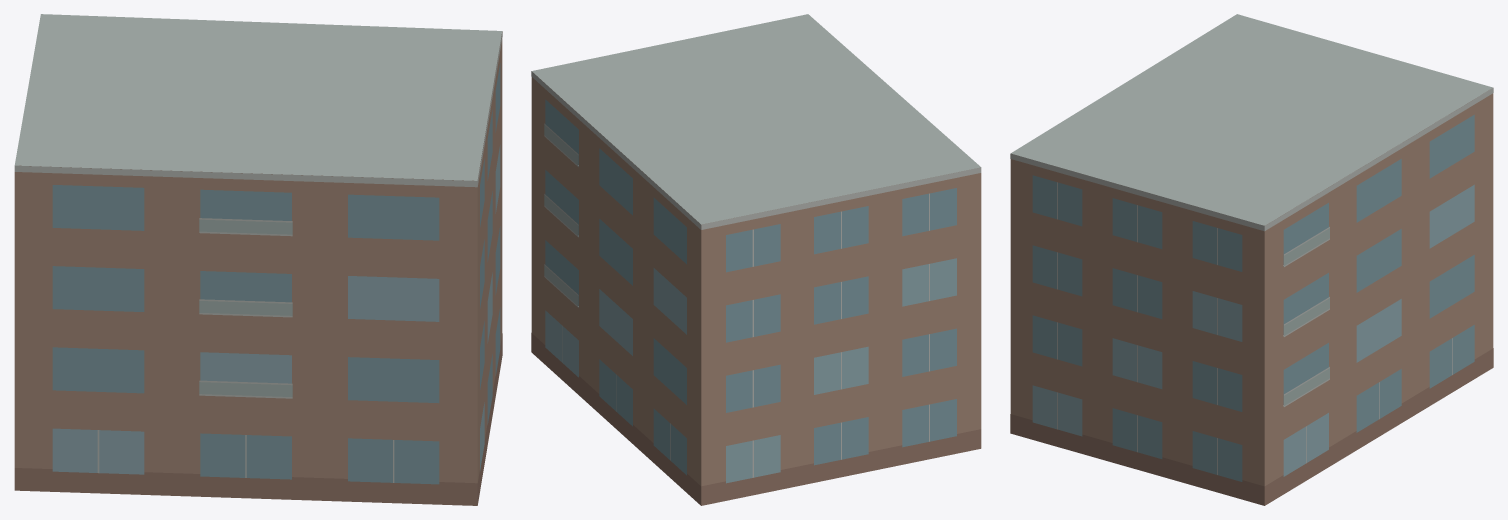
Rendered from survey-upis-32660549.glb.
3 renders of one model, left to right at view 1: azimuth 30°, elevation 25°; view 2: azimuth 150°, elevation 25°; view 3: azimuth 270°, elevation 25°, orthographic. The views are drawn at different scales.
Parts seen in each view (by area): view 1: survey-upis-32660549.tmp; view 2: survey-upis-32660549.tmp; view 3: survey-upis-32660549.tmp.
Boxes of the visible parts, x1=… form: survey-upis-32660549.tmp: x1=14, y1=14, x2=502, y2=505; survey-upis-32660549.tmp: x1=531, y1=14, x2=981, y2=505; survey-upis-32660549.tmp: x1=1010, y1=14, x2=1493, y2=505.
Bounding box in the file's own units: 20.28 × 12.5 × 19.54.
